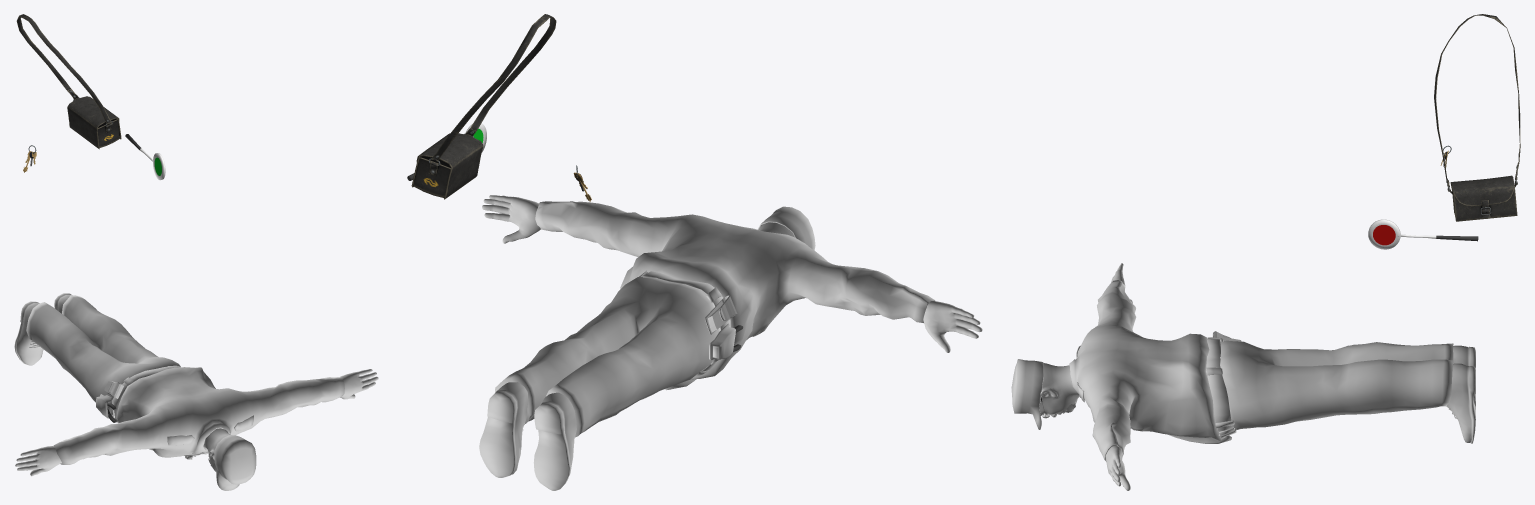
The model's file is dutch_conductor_for_railway_ns_from_the_90s.obj.
3 views of the same model, side by side, from view 1: azimuth 30°, elevation 25°; view 2: azimuth 150°, elevation 25°; view 3: azimuth 270°, elevation 25° (orthographic). The views are drawn at different scales.
Parts seen in each view (by area): view 1: obj10, obj9; view 2: obj10, obj9; view 3: obj10, obj9, obj1.
Part boxes in pixels (box(x1,y1,x2,y2)): obj10: box(14, 293, 378, 490); obj9: box(16, 14, 121, 149); obj10: box(479, 195, 982, 490); obj9: box(411, 14, 556, 199); obj10: box(1011, 263, 1475, 490); obj9: box(1434, 14, 1520, 221); obj1: box(1368, 219, 1436, 249).
Bounding box in the file's own units: 1.97 × 1.82 × 2.02.
